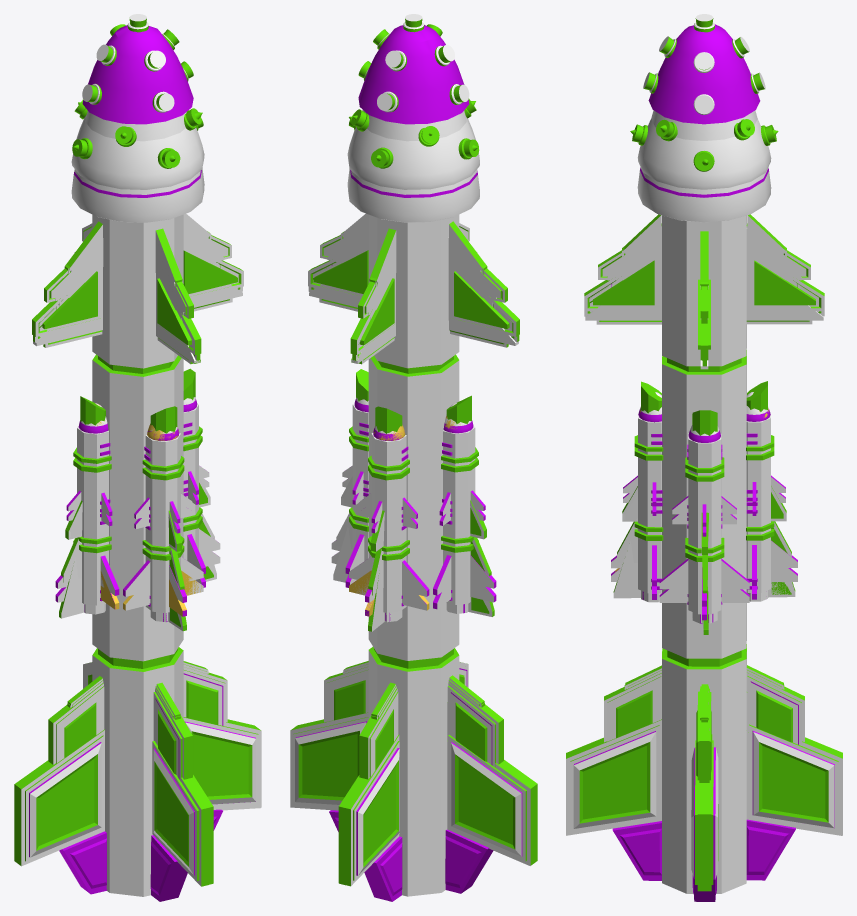
Rendered from roket_deneme2.fbx.
3 renders of one model, left to right at view 1: azimuth 30°, elevation 25°; view 2: azimuth 150°, elevation 25°; view 3: azimuth 270°, elevation 25°, orthographic.
Parts seen in each view (by area): view 1: base1, altk_lv8_3, altk_lv8_1, head_lv9, altk_lv8_4, head_lv8, head_lv4, missile_lv4_3, missile_lv2_4, missile_lv4_4, base2, missile_lv4_1 (+24 smaller); view 2: base1, altk_lv8_3, altk_lv8_1, head_lv9, altk_lv8_2, missile_lv4_3, head_lv8, head_lv4, missile_lv4_2, missile_lv2_2, base2, missile_lv4_1 (+23 smaller); view 3: base1, altk_lv8_2, missile_lv4_1, altk_lv8_4, head_lv9, head_lv4, head_lv8, missile_lv4_2, base2, missile_lv4_4, altk_lv7_4, altk_lv8_1 (+21 smaller).
Boxes of the visible parts, x1,y1,x2,y2 form: base1: (92, 214, 183, 896); altk_lv8_3: (14, 702, 104, 866); altk_lv8_1: (183, 667, 261, 808); head_lv9: (82, 25, 193, 124); altk_lv8_4: (152, 689, 213, 886); head_lv8: (71, 110, 204, 222); head_lv4: (71, 116, 204, 189); missile_lv4_3: (55, 403, 119, 608); missile_lv2_4: (123, 423, 202, 616); missile_lv4_4: (123, 427, 203, 616); base2: (59, 809, 222, 901); missile_lv4_1: (183, 397, 220, 587); base1: (368, 214, 459, 896); altk_lv8_3: (447, 683, 537, 865); altk_lv8_1: (290, 680, 368, 810); head_lv9: (358, 25, 469, 124); altk_lv8_2: (338, 709, 399, 886); missile_lv4_3: (433, 403, 496, 609); head_lv8: (347, 110, 479, 222); head_lv4: (347, 117, 479, 189); missile_lv4_2: (349, 426, 429, 616); missile_lv2_2: (349, 425, 429, 616); base2: (329, 810, 493, 901); missile_lv4_1: (331, 398, 368, 587); base1: (662, 215, 746, 893); altk_lv8_2: (746, 673, 842, 835); missile_lv4_1: (659, 425, 749, 620); altk_lv8_4: (566, 690, 660, 828); head_lv9: (648, 24, 760, 124); head_lv4: (637, 119, 771, 189); head_lv8: (637, 110, 771, 222); missile_lv4_2: (746, 392, 797, 599); base2: (612, 819, 795, 901); missile_lv4_4: (611, 392, 663, 599); altk_lv7_4: (566, 673, 661, 835); altk_lv8_1: (691, 691, 718, 891).
Bounding box in the file's own units: 291 × 994 × 291.
